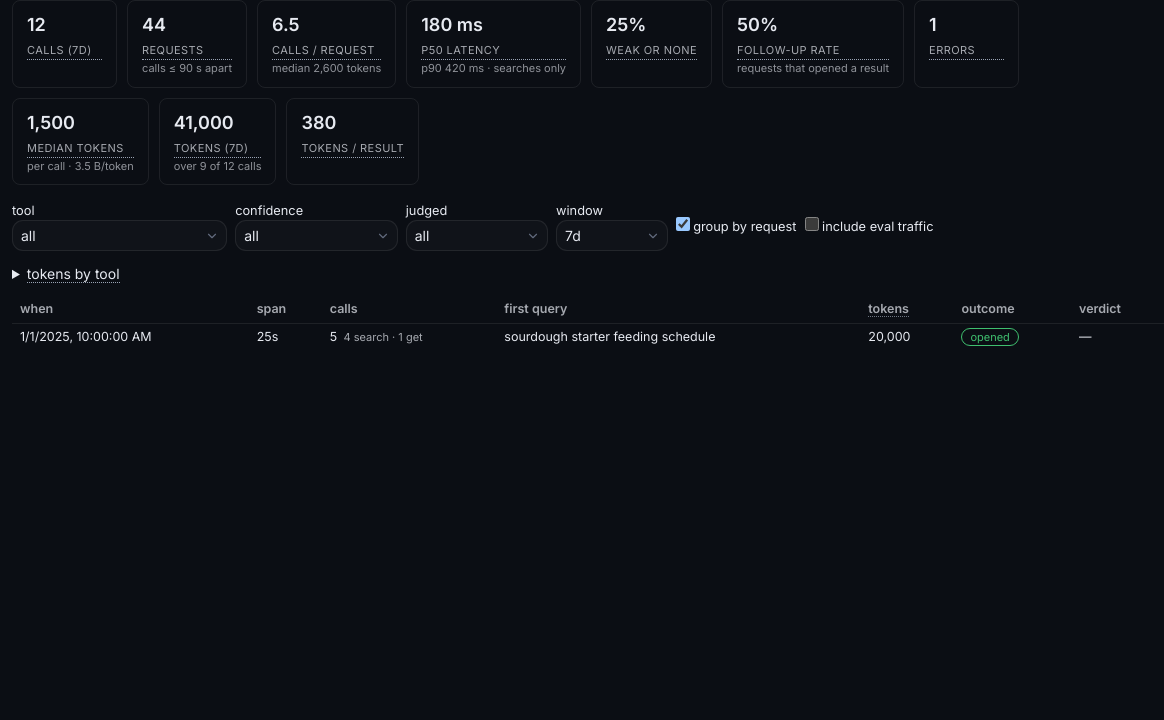
Test: LiveTraces grouped by request › refreshes an expanded request on mcp_trace change-feed events
This screenshot has width=1164, height=720.
Click the text "sourdough starter feeding schedule".
click(678, 337)  # box [496,323,860,351]
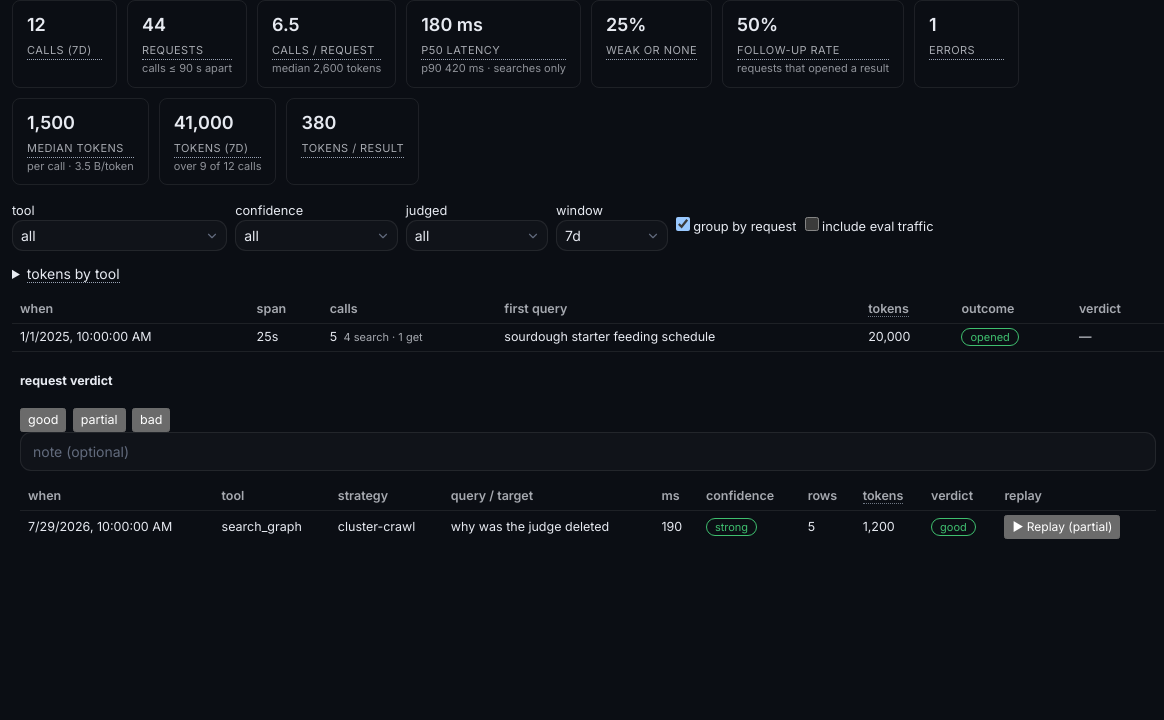
Expected: the text "why was the judge deleted" is shown, [443,511,654,543]
